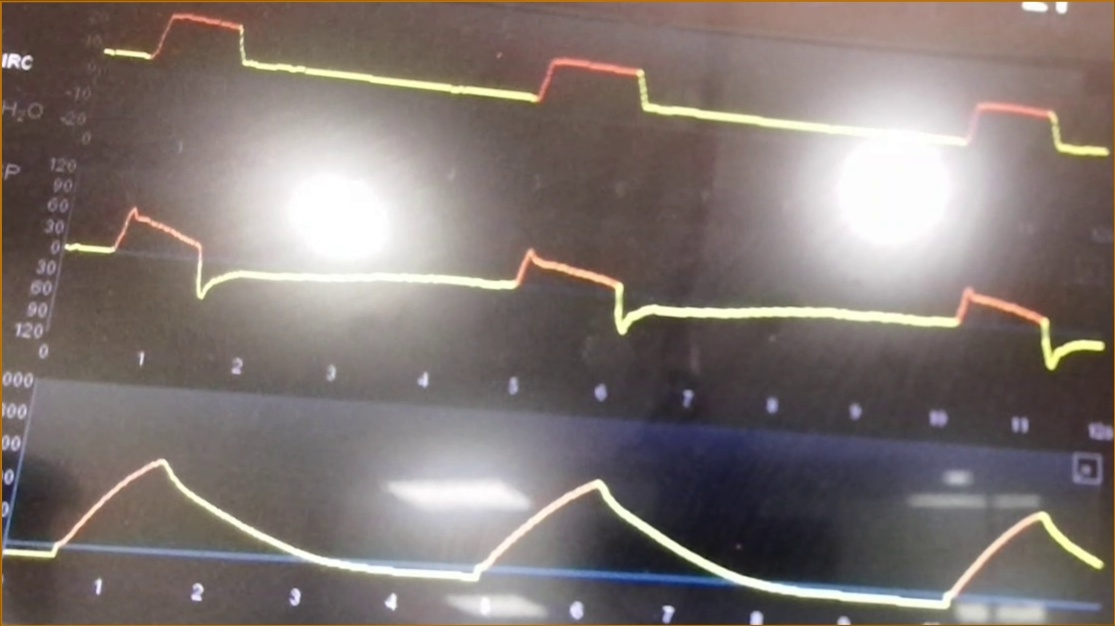Normal Flow: (63, 203, 1107, 372)
Normal Volume: (17, 453, 1105, 615)
